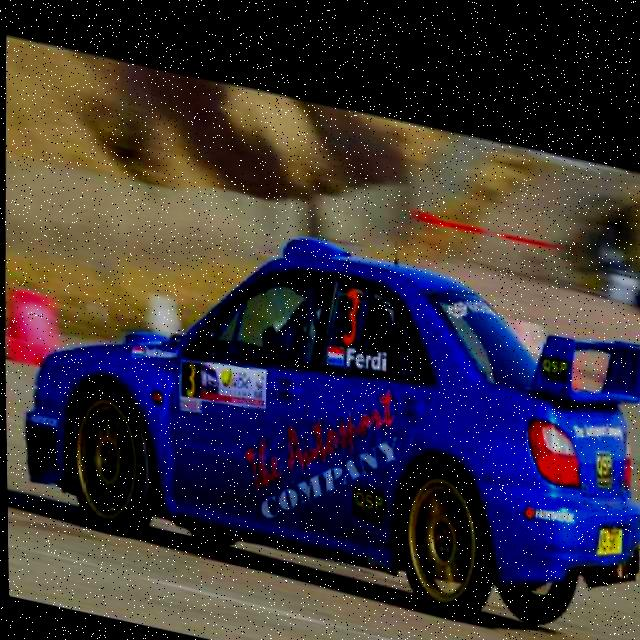license_plate: (594, 497, 622, 535)
